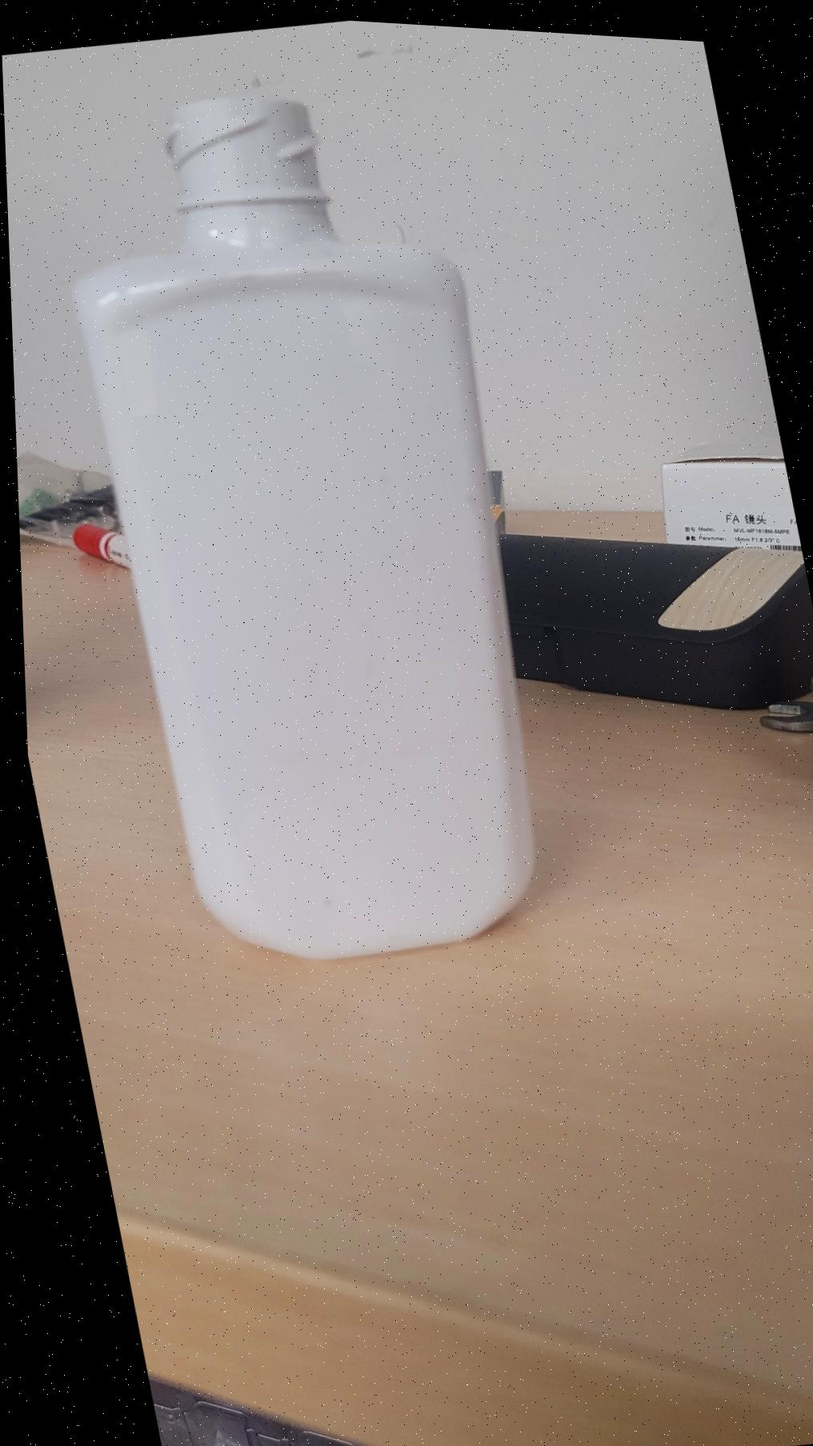bottle: (76, 93, 533, 958)
